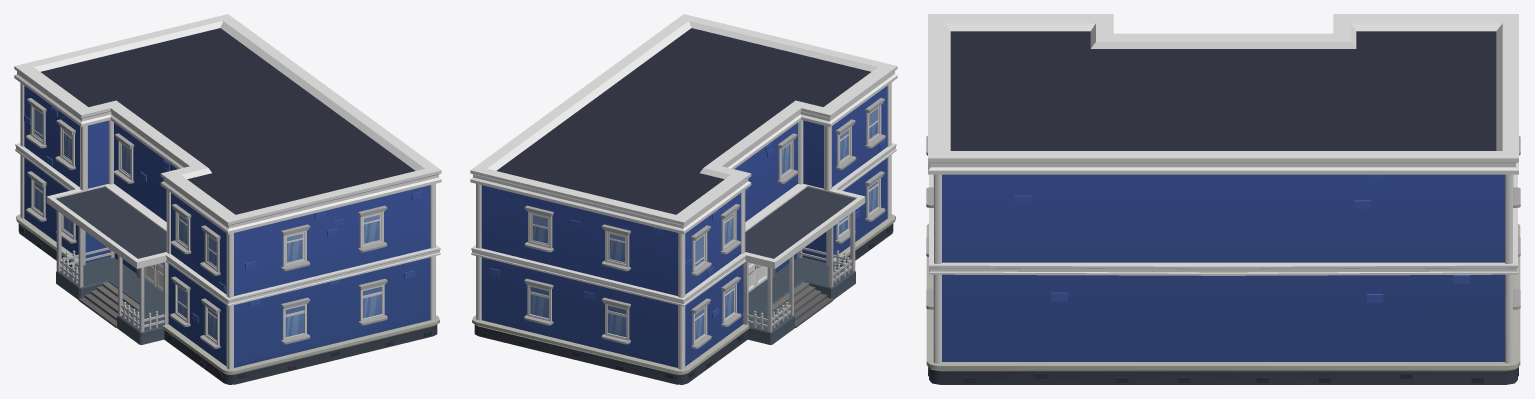
Rendered from Building_5_1_D.fbx.
The picture shows the model from 3 angles, left to right: view 1: azimuth 30°, elevation 25°; view 2: azimuth 150°, elevation 25°; view 3: azimuth 270°, elevation 25°; orthographic projection. The views are drawn at different scales.
Parts seen in each view (by area): view 1: Building_5_1_D; view 2: Building_5_1_D; view 3: Building_5_1_D.
Boxes of the visible parts, <box> form: Building_5_1_D: <box>14,14,441,384</box>; Building_5_1_D: <box>470,14,897,384</box>; Building_5_1_D: <box>926,14,1520,384</box>.
Size of the model in its own units: 1251 by 804 by 1908.
